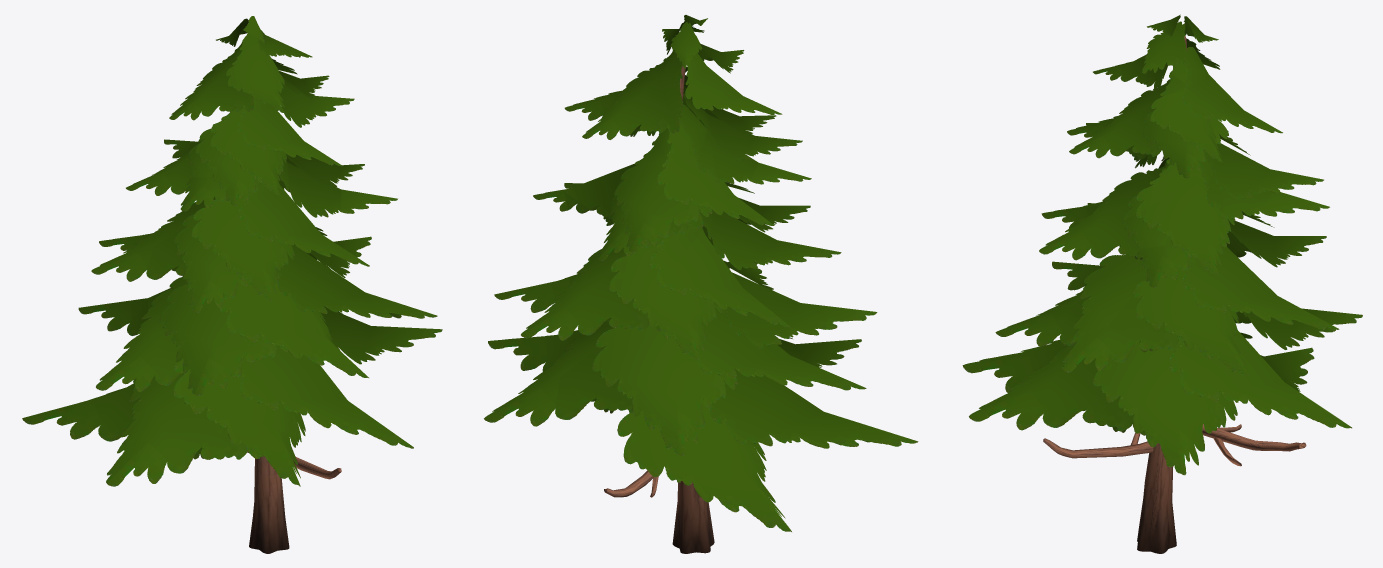
Rendered from Pine_2.gltf.
3 renders of one model, left to right at view 1: azimuth 30°, elevation 25°; view 2: azimuth 150°, elevation 25°; view 3: azimuth 270°, elevation 25°, orthographic. The views are drawn at different scales.
Visible parts, largest first — view 1: Pine_2; view 2: Pine_2; view 3: Pine_2.
Part boxes in pixels (x1,y1,x2,y2): Pine_2: (22,16,442,553); Pine_2: (484,15,918,553); Pine_2: (962,14,1362,553).
Size of the model in its own units: 5.73 by 7.38 by 5.22.
2 materials, 2 textured.
